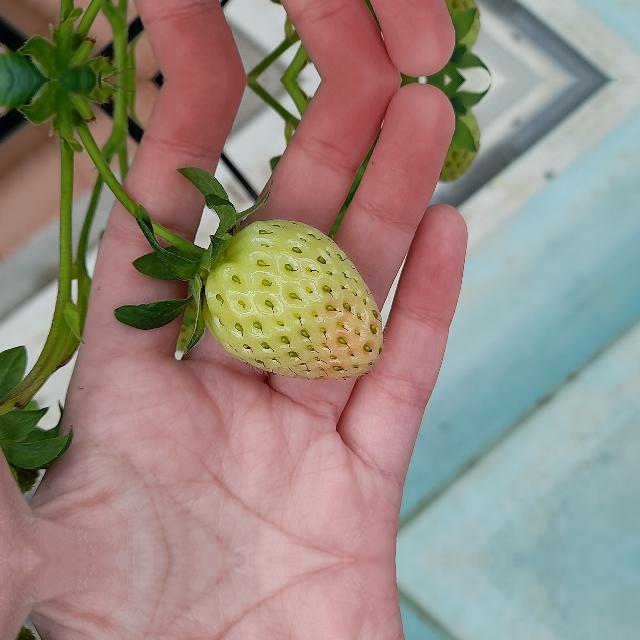Health_25: (202, 219, 382, 379)
